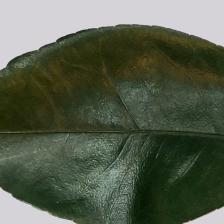healthy: (0, 29, 224, 217)
